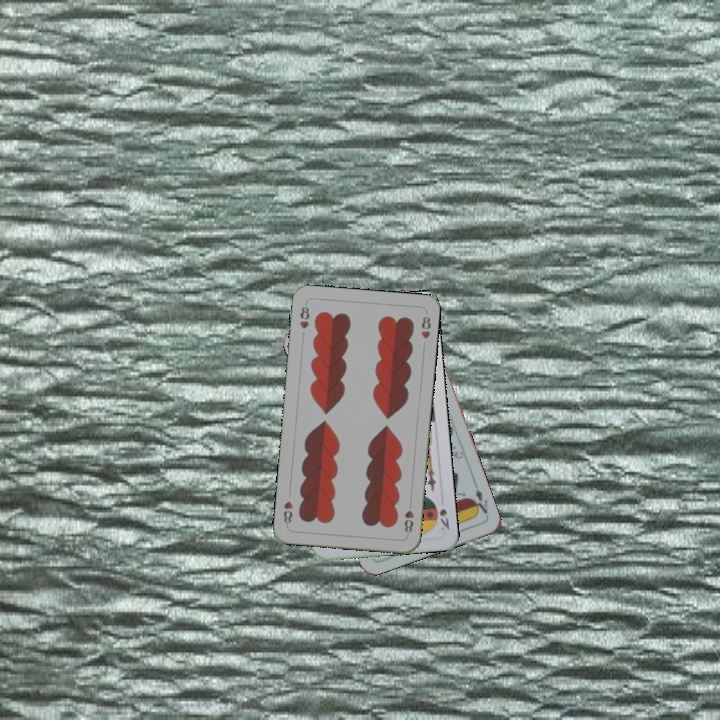EA: (468, 480, 490, 517)
H8: (400, 497, 416, 535), (296, 299, 312, 331)
SK: (436, 505, 452, 533)
